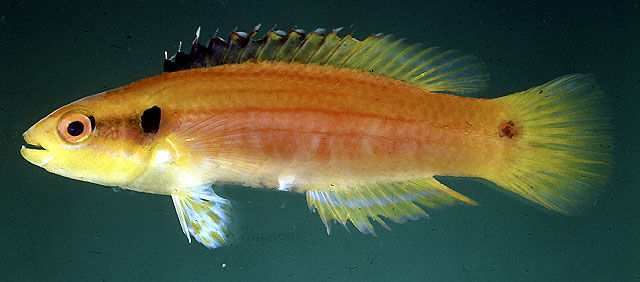fish: (20, 24, 615, 250)
